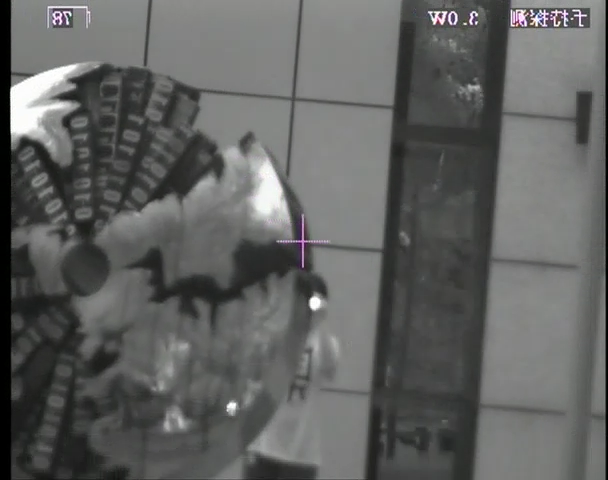my: (308, 295, 321, 312)
